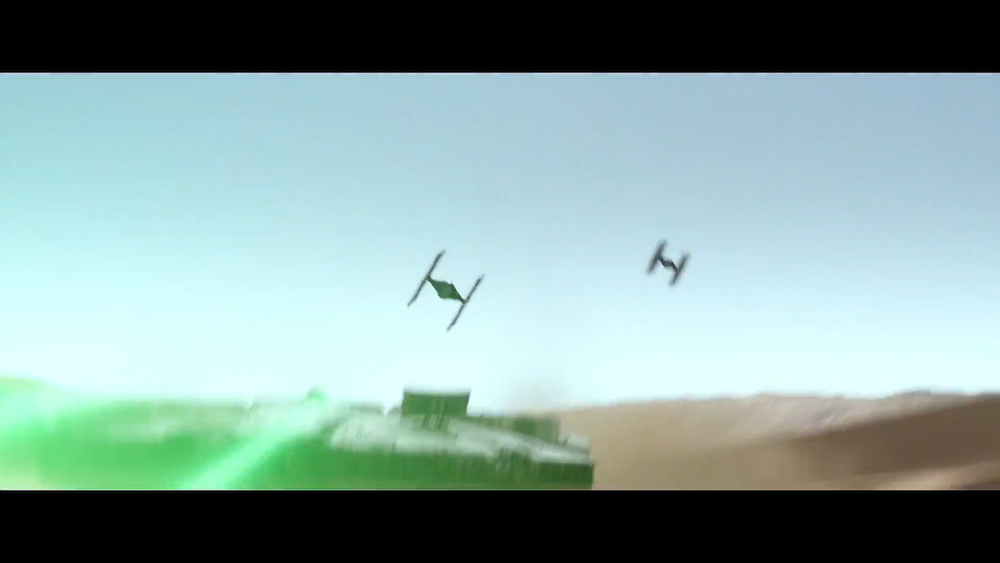Millennium Falcon: (1, 394, 596, 489)
Tie Fighter: (407, 249, 487, 333), (646, 239, 693, 289)
